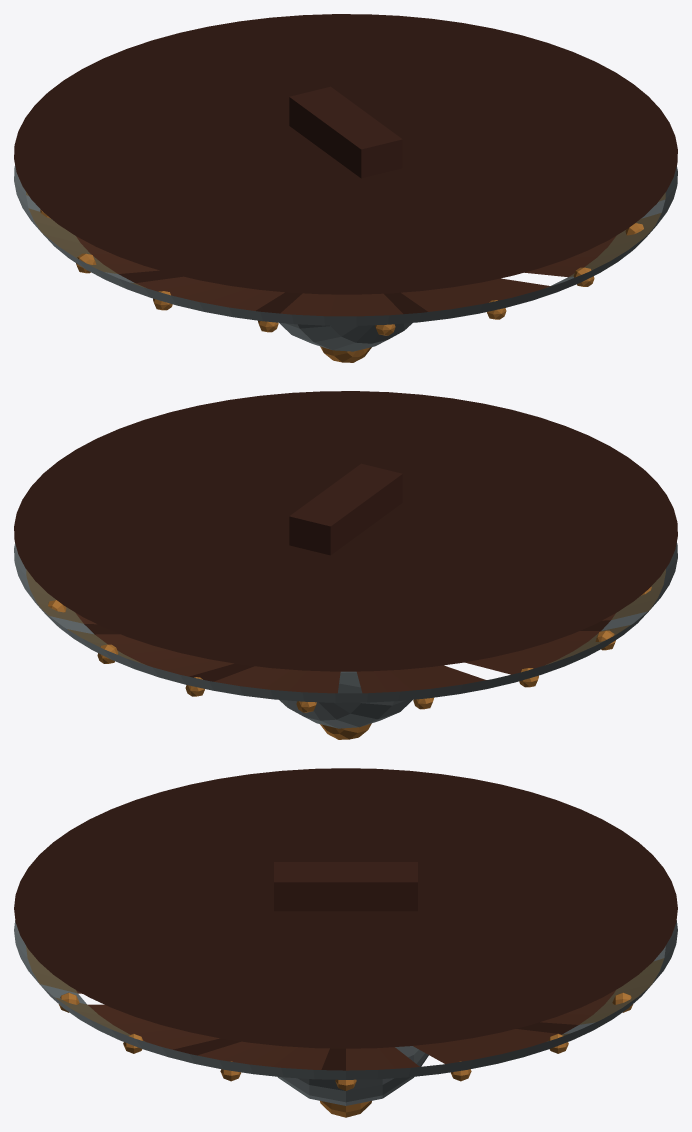
Rendered from SM_Weapon_RoundShield_A.obj.
3 renders of one model, top to bottom at view 1: azimuth 30°, elevation 25°; view 2: azimuth 150°, elevation 25°; view 3: azimuth 270°, elevation 25°, orthographic.
Parts seen in each view (by area): view 1: SM_Weapon_RoundShield_A; view 2: SM_Weapon_RoundShield_A; view 3: SM_Weapon_RoundShield_A.
Boxes of the visible parts, x1,y1,x2,y2 form: SM_Weapon_RoundShield_A: (14, 14, 677, 362); SM_Weapon_RoundShield_A: (14, 391, 677, 739); SM_Weapon_RoundShield_A: (14, 768, 677, 1117).
Bounding box in the file's own units: 83 × 33.5 × 83.
